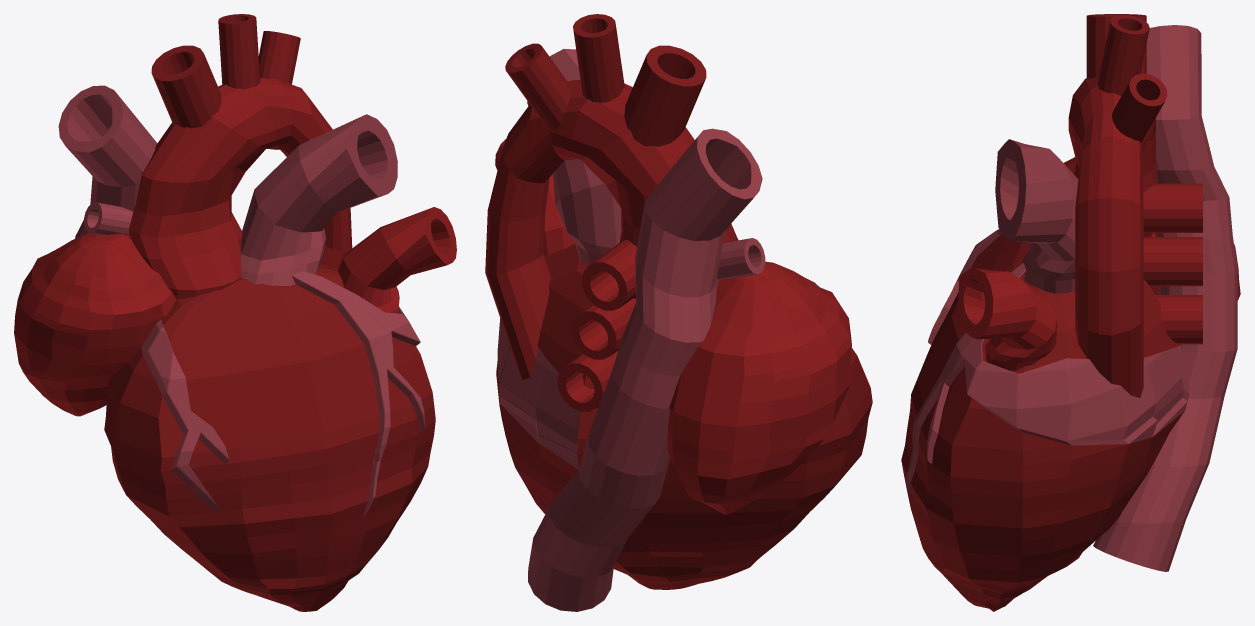
File: coração.glb
3 renders of one model, left to right at view 1: azimuth 30°, elevation 25°; view 2: azimuth 150°, elevation 25°; view 3: azimuth 270°, elevation 25°, orthographic. The views are drawn at different scales.
Parts seen in each view (by area): view 1: Cylinder; view 2: Cylinder; view 3: Cylinder.
Part boxes in pixels (x1=…): Cylinder: x1=14, y1=14, x2=456, y2=611; Cylinder: x1=485, y1=14, x2=872, y2=611; Cylinder: x1=901, y1=14, x2=1240, y2=611.
Bounding box in the file's own units: 4.53 × 6.46 × 3.42.
